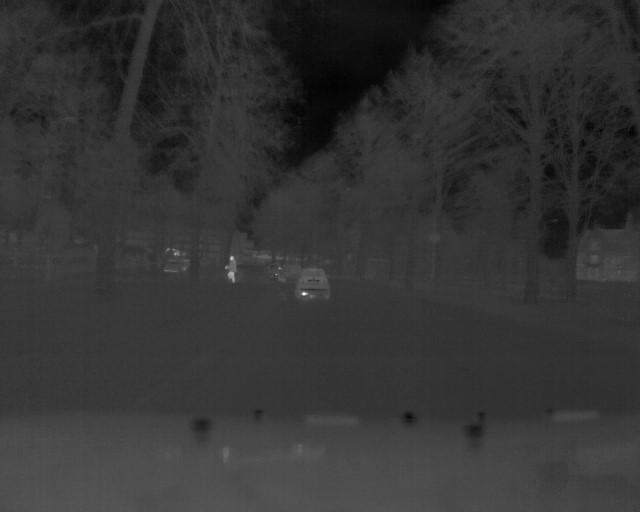car: (288, 267, 332, 299)
person: (223, 254, 237, 284)
